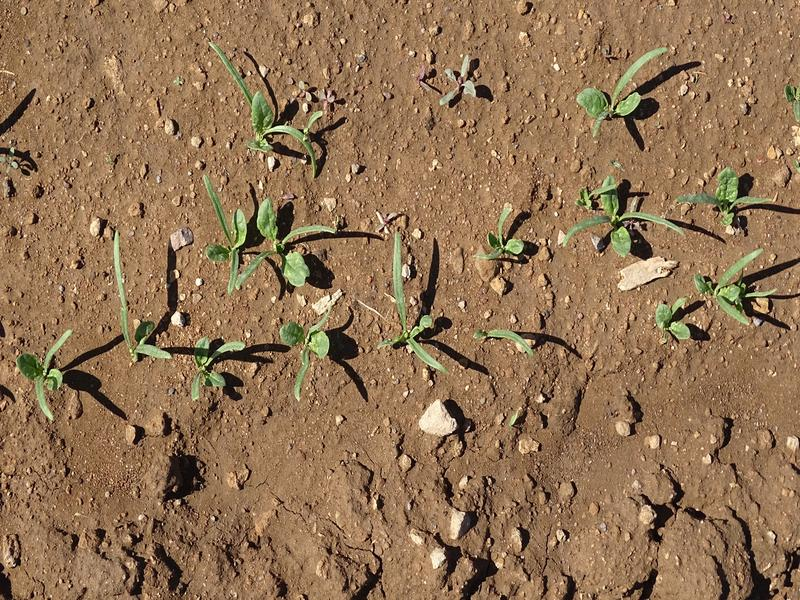Espinaca: (204, 40, 326, 170), (199, 177, 336, 285), (107, 238, 176, 365), (383, 238, 444, 372), (650, 258, 753, 332), (266, 301, 343, 397), (584, 47, 668, 128), (579, 175, 664, 253), (20, 330, 84, 422), (183, 335, 240, 408), (697, 170, 777, 221), (487, 207, 538, 272)
